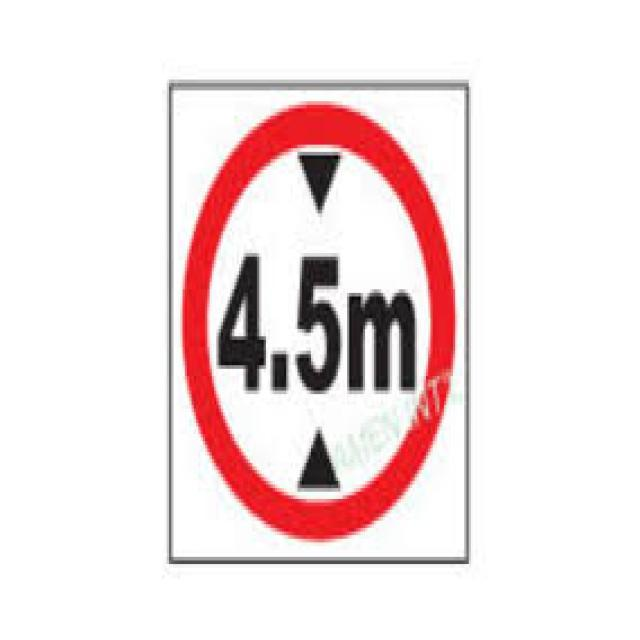height limit: (177, 94, 461, 547)
